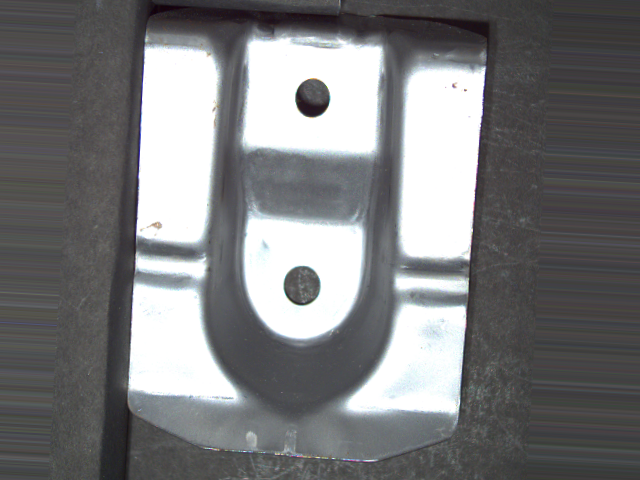defect: (281, 263, 324, 310)
